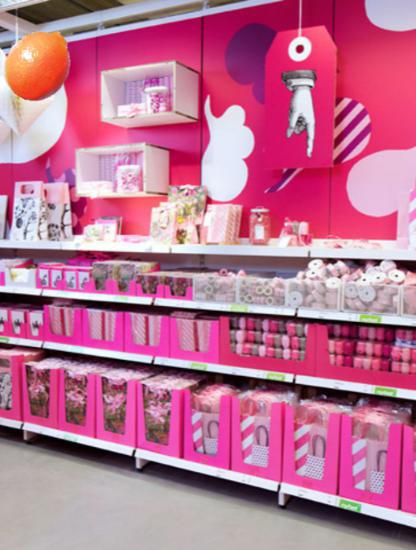Tangelo: (1, 26, 78, 103)
